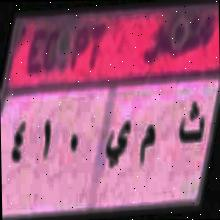0: (65, 126, 86, 166)
1: (36, 114, 57, 164)
4: (8, 113, 28, 173)
meem: (136, 123, 158, 172)
thaa: (178, 96, 206, 150)
yaa: (104, 112, 131, 174)
